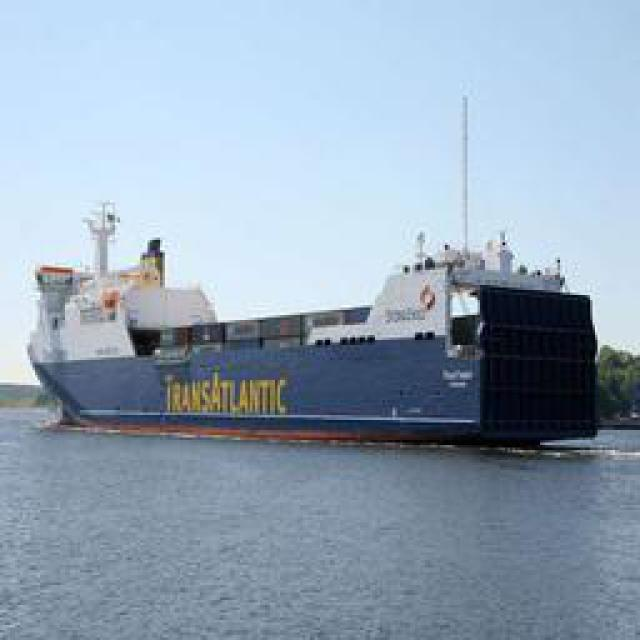Ship: (26, 217, 589, 435)
